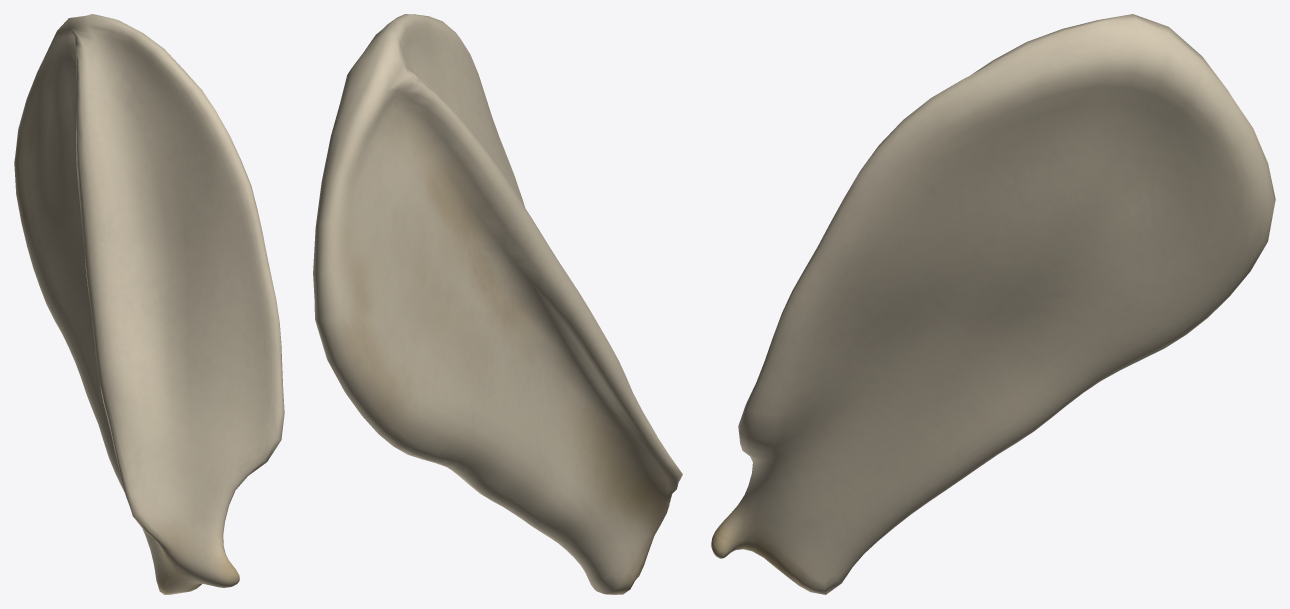
The model's file is R Scapula.fbx.
3 views of the same model, side by side, from view 1: azimuth 30°, elevation 25°; view 2: azimuth 150°, elevation 25°; view 3: azimuth 270°, elevation 25° (orthographic). The views are drawn at different scales.
Parts seen in each view (by area): view 1: R Scapula; view 2: R Scapula; view 3: R Scapula.
Boxes of the visible parts, x1,y1,x2,y2 form: R Scapula: (14, 14, 284, 594); R Scapula: (313, 14, 682, 594); R Scapula: (711, 14, 1275, 594).
Size of the model in its own units: 7.75 by 25.05 by 21.3.
